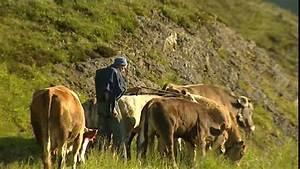cow: (140, 96, 215, 169), (29, 84, 86, 168)
